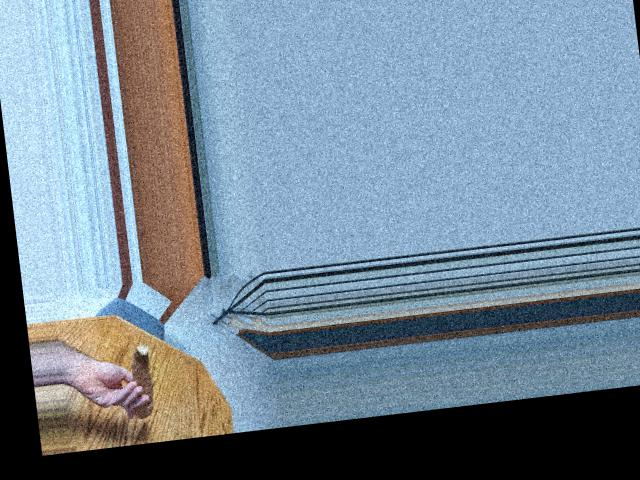sweet_potato: (130, 342, 153, 406)
